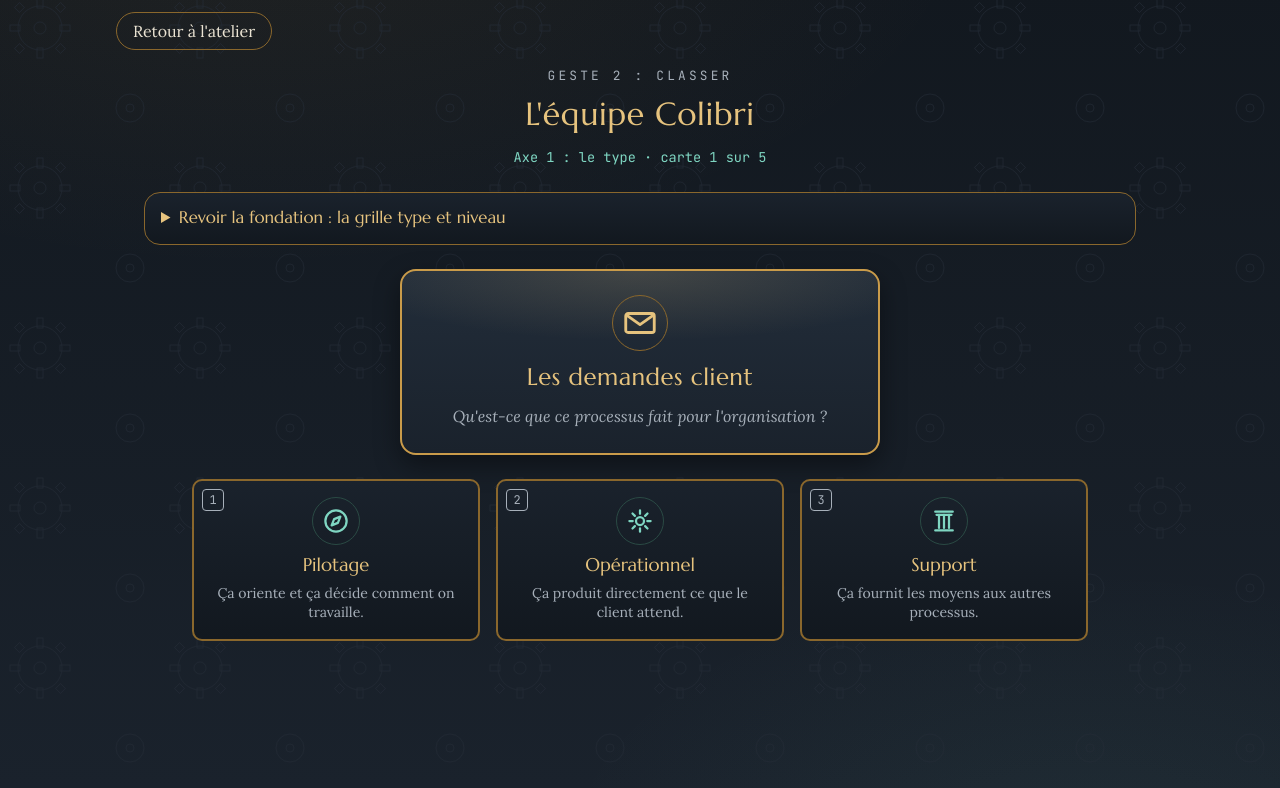
Test: ClassificationBoard › sert le message de confusion du corpus sur la mauvaise case prévue
This screenshot has width=1280, height=788.
Click the button "3 Support Ça fournit les moyens aux autres processus.": (944, 560) [800, 478, 1088, 641]
(page scrolled)
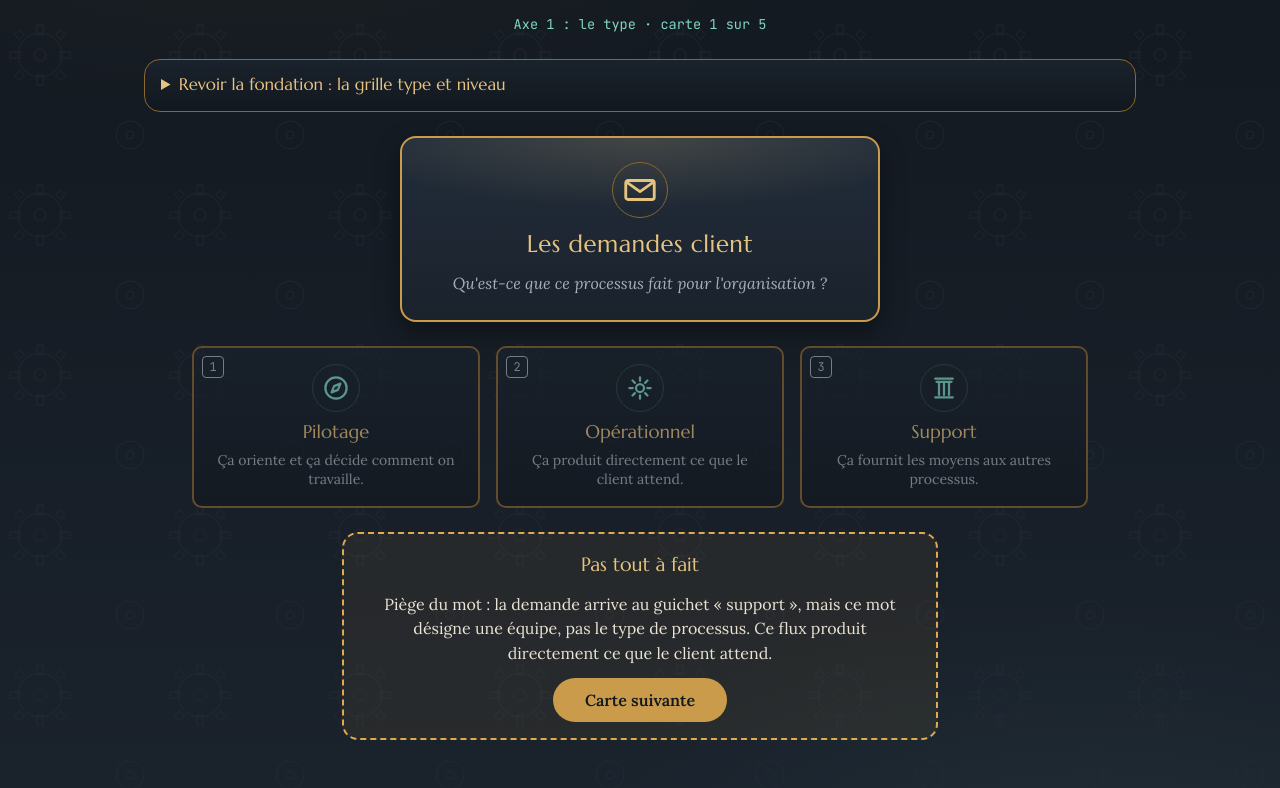
Check: the text "Pas tout à fait" is shown, box [581, 552, 699, 576]
Check: the text "Piège du mot : la demande arrive au guichet « support », mais ce mot désigne une équipe, pas le type de processus. Ce fl" is shown, box [384, 594, 896, 663]
